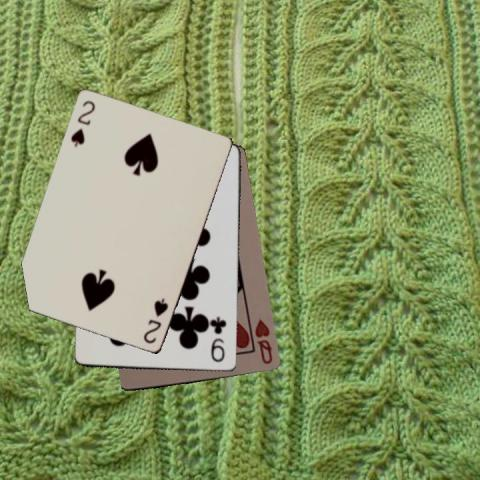2s: (141, 296, 170, 346), (68, 98, 97, 148)
9c: (211, 313, 228, 364)
Qh: (252, 316, 274, 366)
